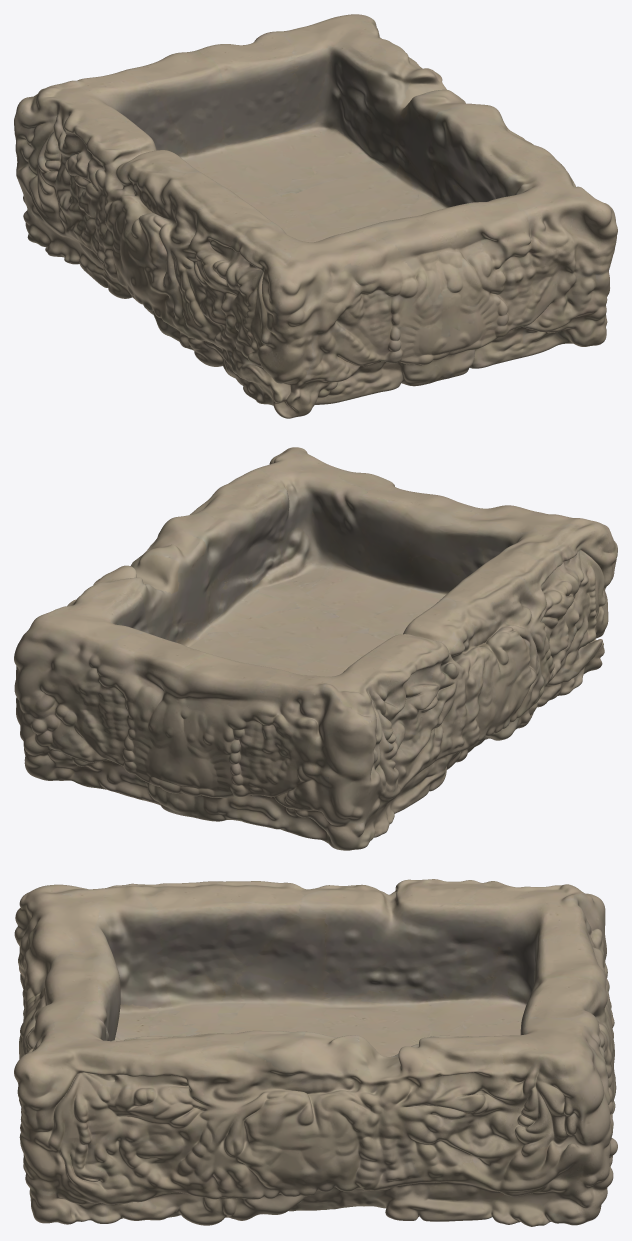
File: bertom_wild_clay_rectangle_pot.glb
3 views of the same model, one above another, from view 1: azimuth 30°, elevation 25°; view 2: azimuth 150°, elevation 25°; view 3: azimuth 270°, elevation 25° (orthographic). The views are drawn at different scales.
Size of the model in its own units: 1.52 by 0.6074 by 1.9.
Materials: 1 (1 with a texture image).
